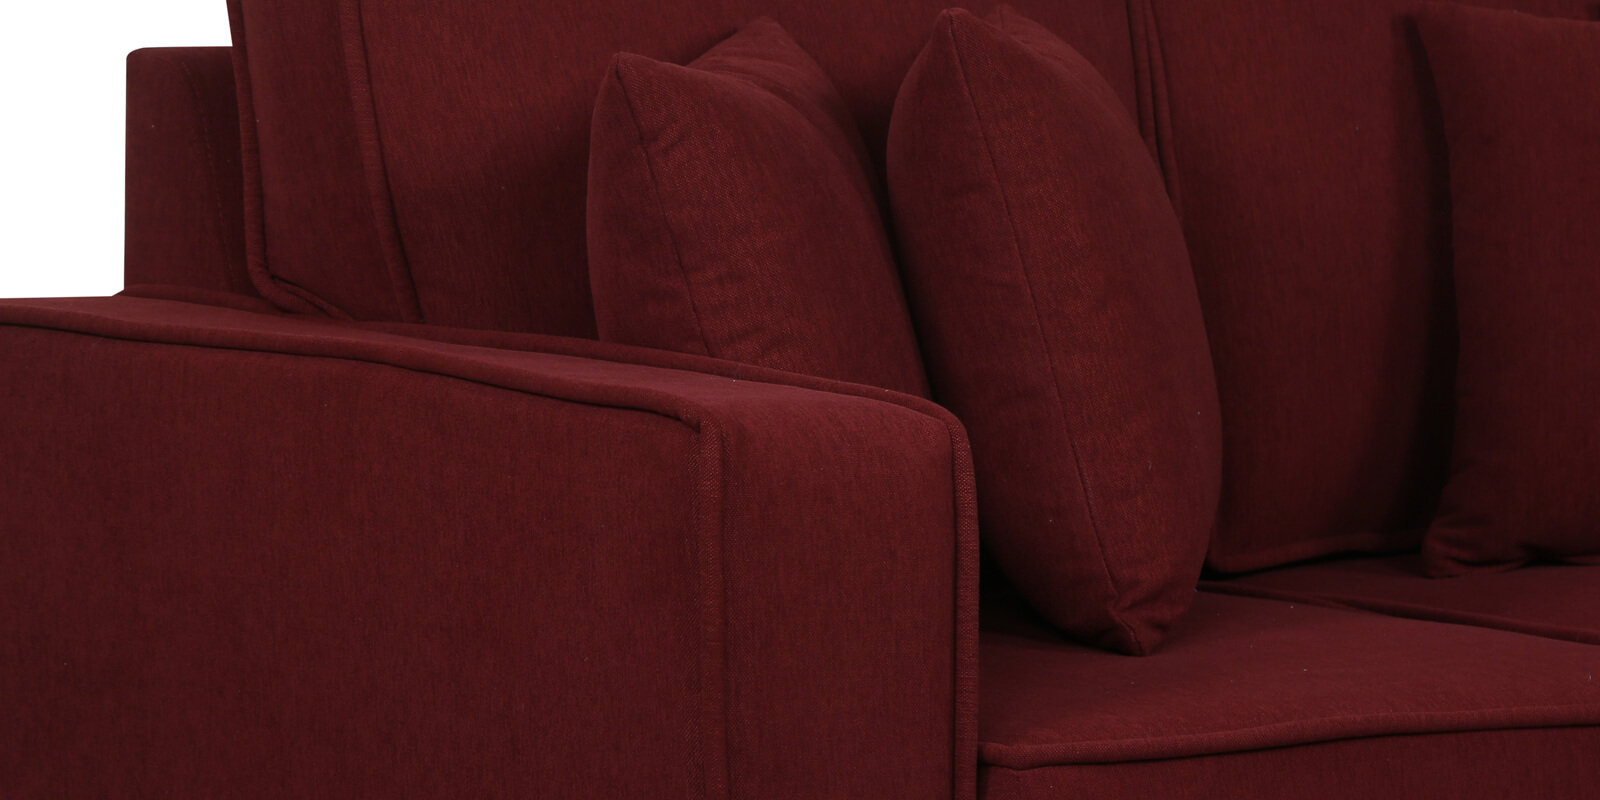Hugo Three Seater Sofa in Garnet Red Colour by CasaCraft: (5, 1, 1600, 795)
